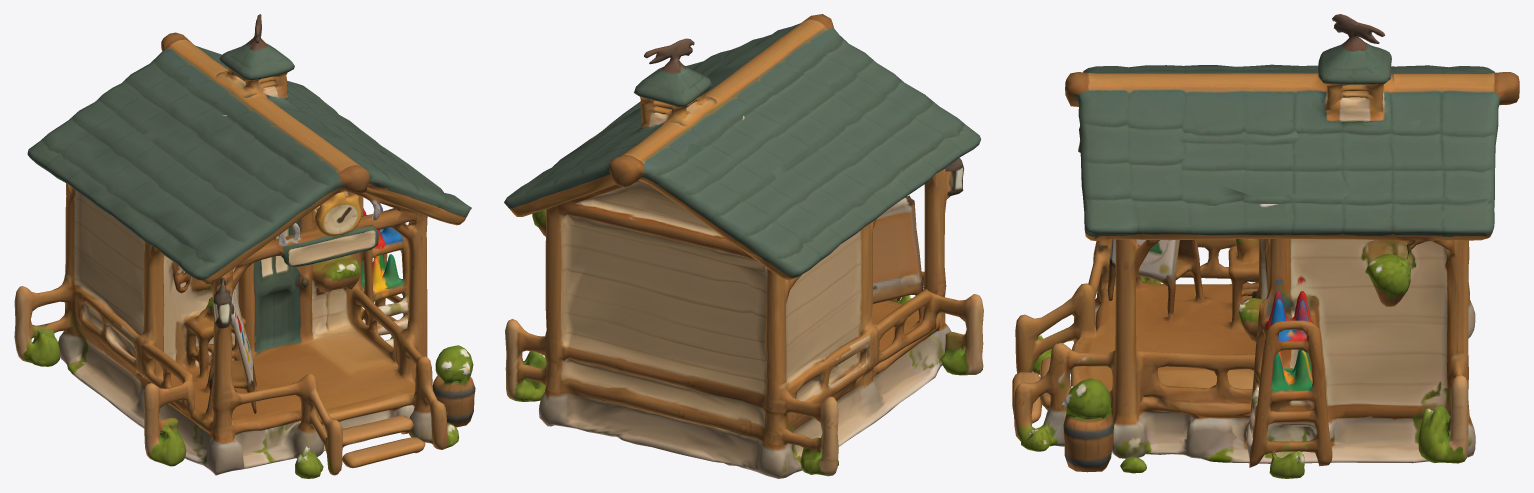
The picture shows the model from 3 angles, left to right: view 1: azimuth 30°, elevation 25°; view 2: azimuth 150°, elevation 25°; view 3: azimuth 270°, elevation 25°; orthographic projection. The views are drawn at different scales.
Parts seen in each view (by area): view 1: tripo_node_1cca6c35-2dfd-486a-9e67-672e71cc48fc; view 2: tripo_node_1cca6c35-2dfd-486a-9e67-672e71cc48fc; view 3: tripo_node_1cca6c35-2dfd-486a-9e67-672e71cc48fc.
Boxes of the visible parts, x1,y1,x2,y2 form: tripo_node_1cca6c35-2dfd-486a-9e67-672e71cc48fc: (14, 14, 475, 478); tripo_node_1cca6c35-2dfd-486a-9e67-672e71cc48fc: (504, 14, 983, 478); tripo_node_1cca6c35-2dfd-486a-9e67-672e71cc48fc: (1012, 14, 1519, 478).
Bounding box in the file's own units: 3.88 × 3.8 × 4.37.
1 material, 1 textured.
